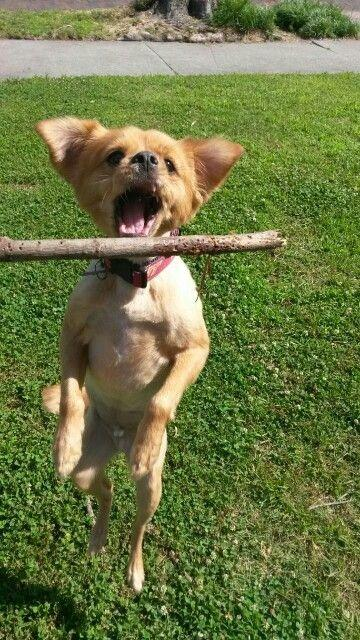adult_dog: (33, 116, 247, 601)
